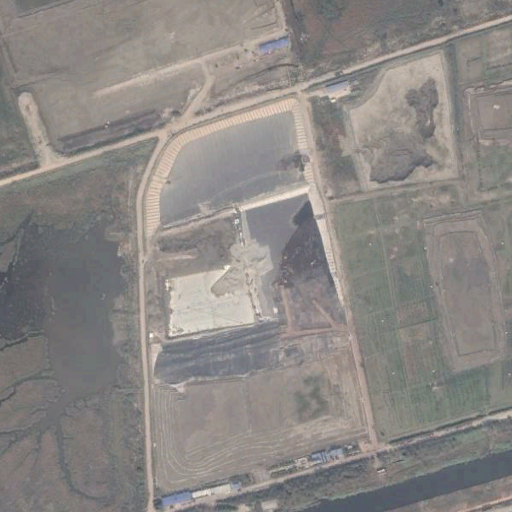lf: (139, 92, 354, 386)
